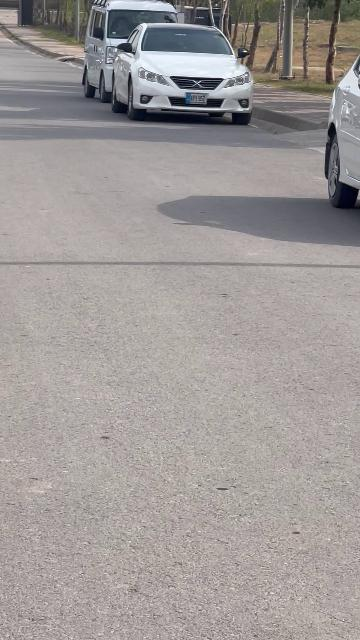plate: (185, 93, 207, 105)
